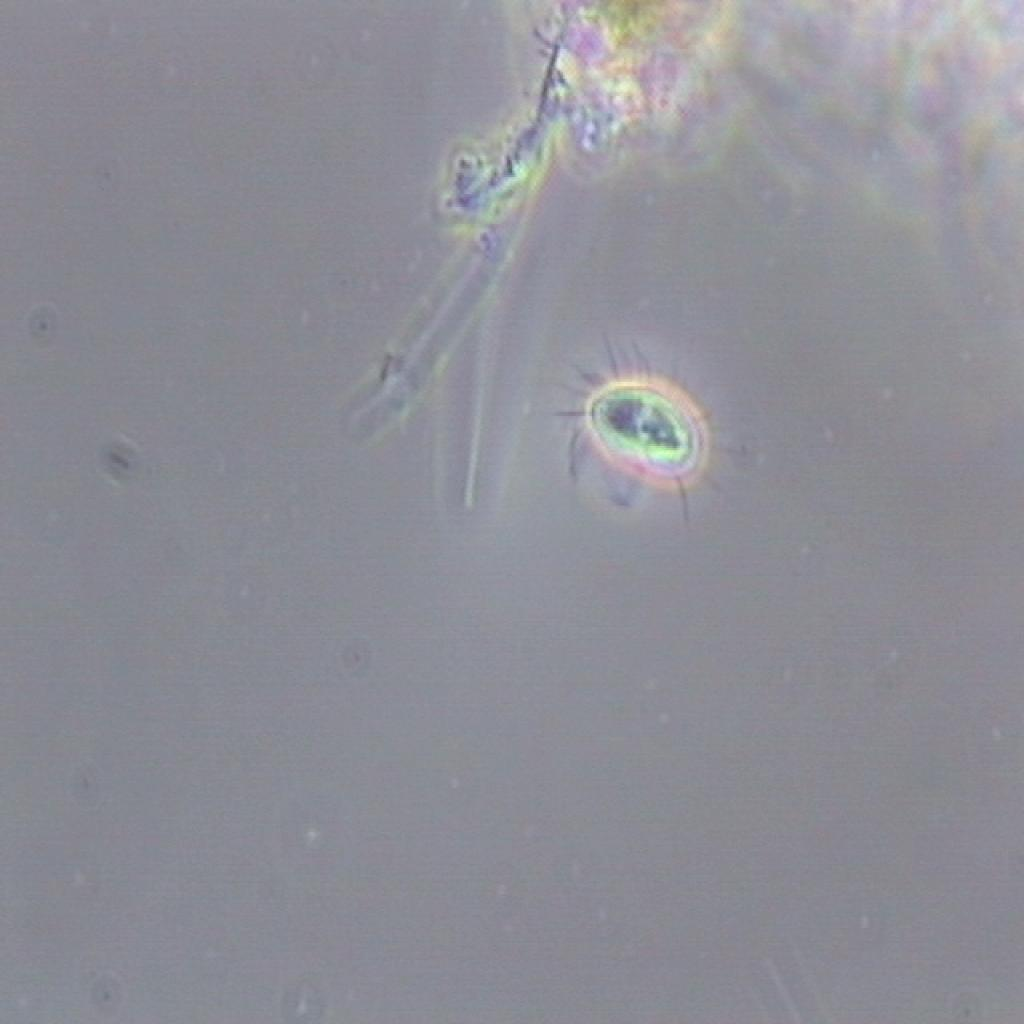Cyclidium: (534, 321, 757, 530)
